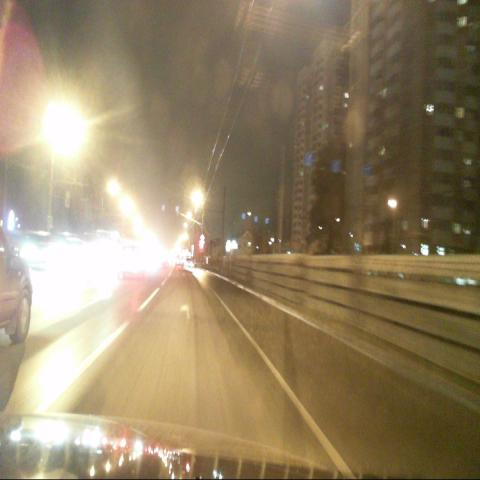5_15_2: (305, 152, 313, 167)
